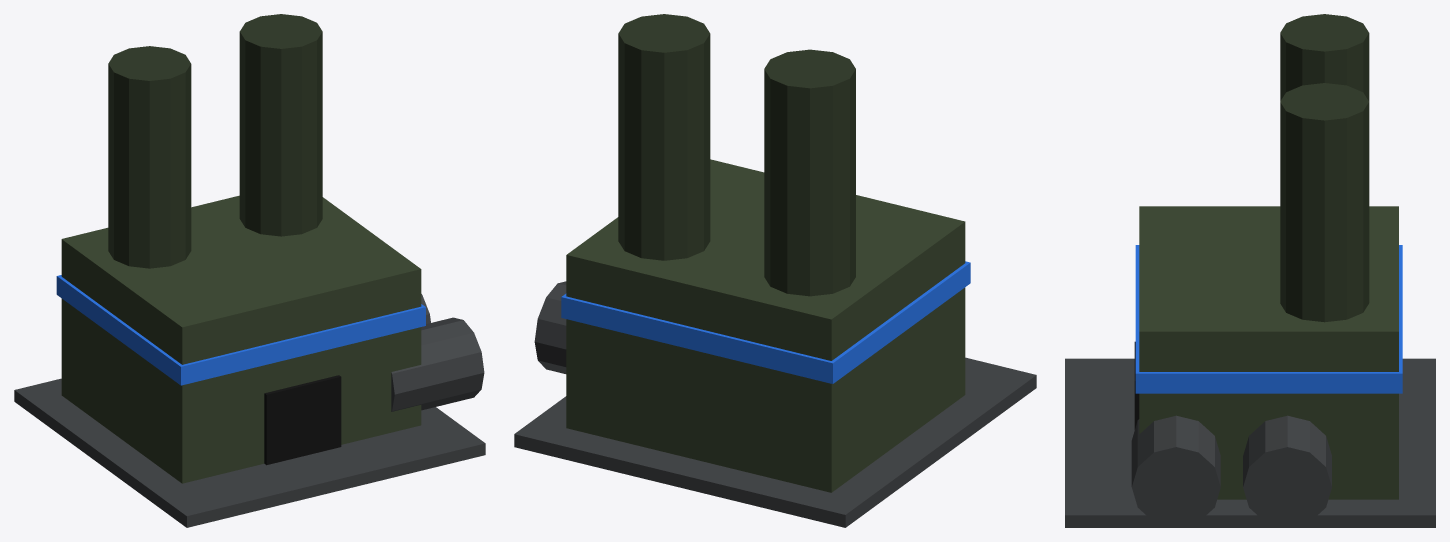
File: ru_power_plant.glb
The picture shows the model from 3 angles, left to right: view 1: azimuth 30°, elevation 25°; view 2: azimuth 150°, elevation 25°; view 3: azimuth 270°, elevation 25°; orthographic projection. The views are drawn at different scales.
Parts seen in each view (by area): view 1: main, base, stack_1, stack_0, team_band, fuel_tank_0, door; view 2: main, stack_1, stack_0, base, team_band, fuel_tank_1; view 3: main, base, stack_1, fuel_tank_0, fuel_tank_1, team_band, stack_0.
Boxes of the visible parts, x1,y1,x2,y2 form: main: (61, 195, 421, 483); base: (14, 378, 485, 527); stack_1: (239, 14, 322, 236); stack_0: (108, 46, 191, 268); team_band: (56, 275, 425, 385); fuel_tank_0: (391, 317, 484, 411); door: (264, 375, 341, 465); main: (566, 159, 965, 492); stack_1: (618, 14, 710, 260); stack_0: (764, 49, 855, 296); base: (514, 357, 1036, 527); team_band: (561, 261, 970, 383); fuel_tank_1: (534, 281, 566, 373); main: (1139, 206, 1398, 499); base: (1065, 358, 1435, 527); stack_1: (1280, 83, 1369, 322); fuel_tank_0: (1131, 415, 1220, 527); fuel_tank_1: (1243, 415, 1331, 527); team_band: (1135, 245, 1402, 393); stack_0: (1280, 14, 1369, 101).
Size of the model in its own units: 8.8 by 9.1 by 8.
